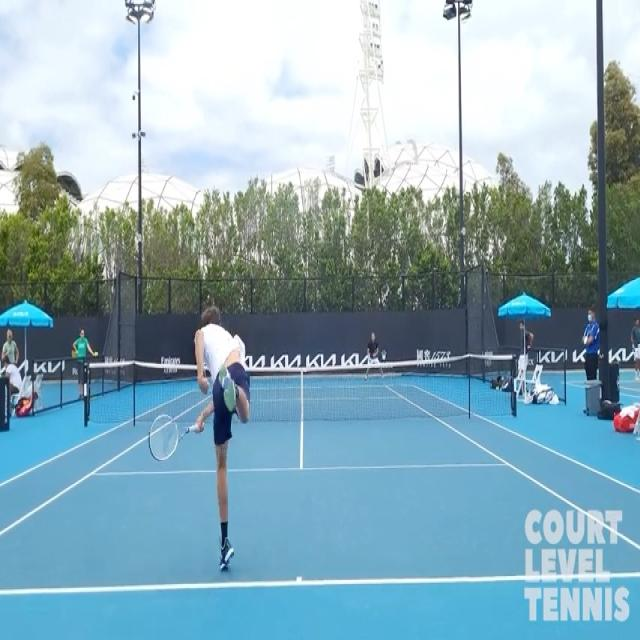serve_followthrough: (144, 294, 263, 590)
